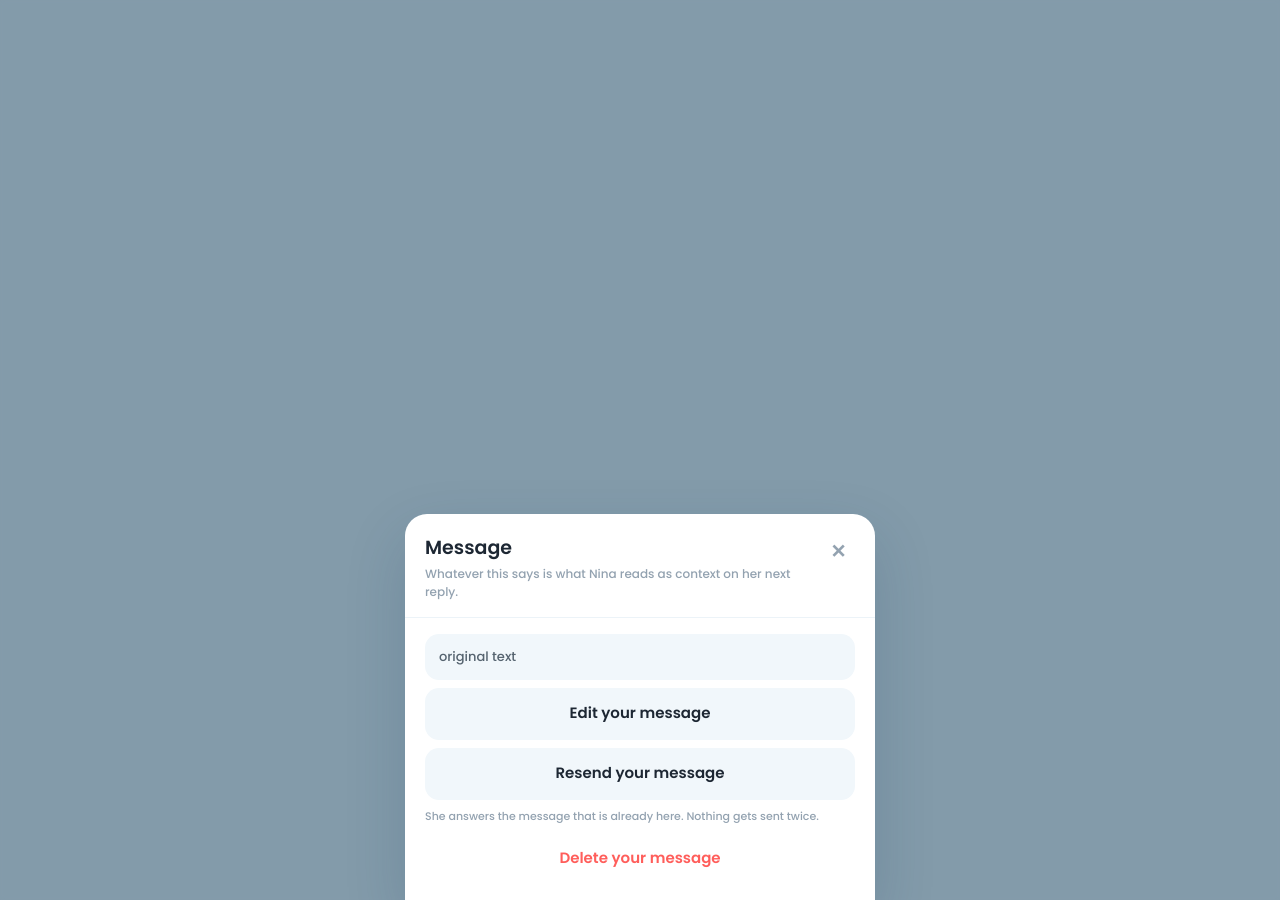
Test: MessageActionsSheet › editing › switches to edit mode with the current body pre-filled
The image size is (1280, 900).
Click the button "Edit your message".
click(640, 714)  # box [425,688,855,740]
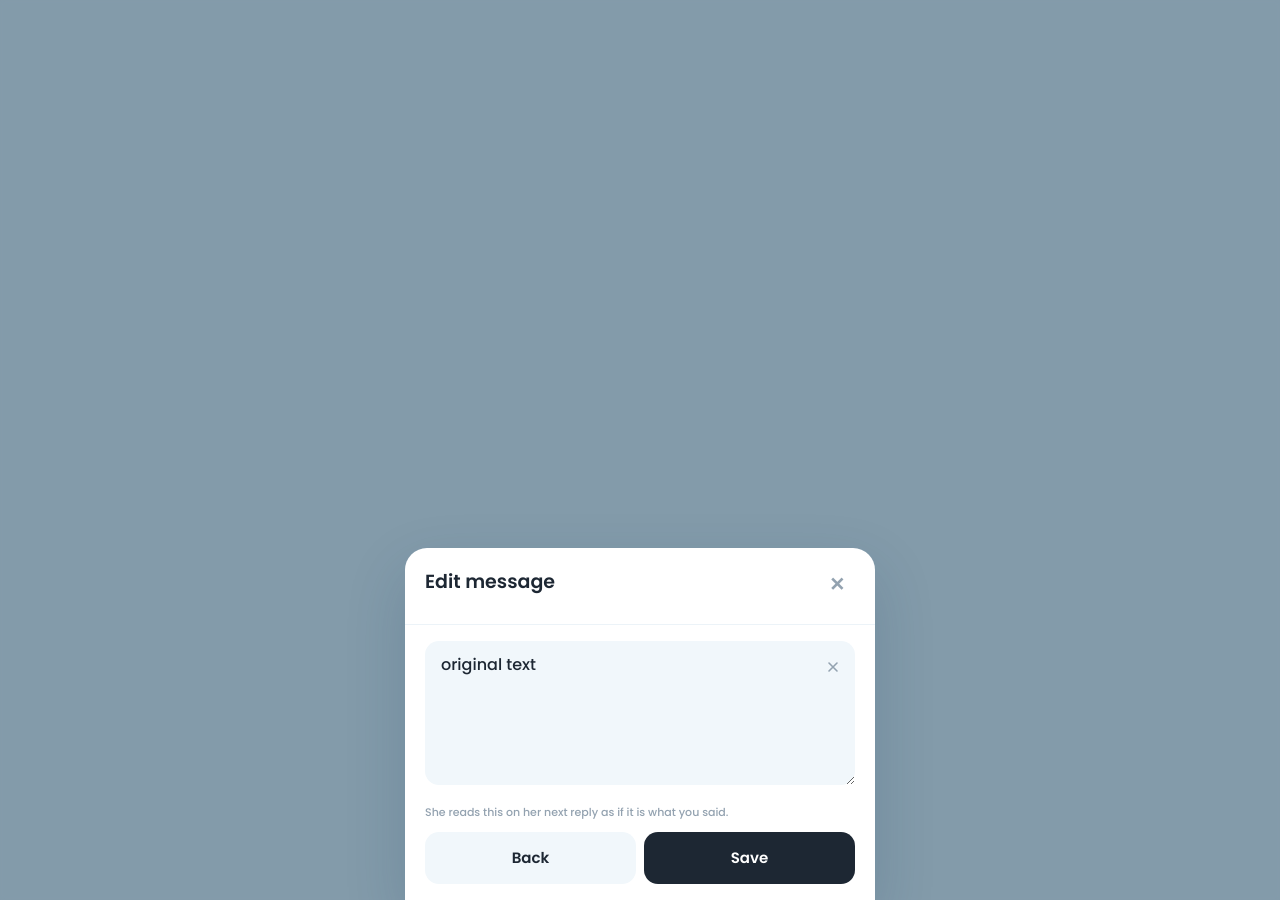
Result: the text box holds "original text" at [425,640,855,784]
Result: the button "Save" is shown at [644,832,855,884]
Result: the button "Back" is shown at [425,832,636,884]
